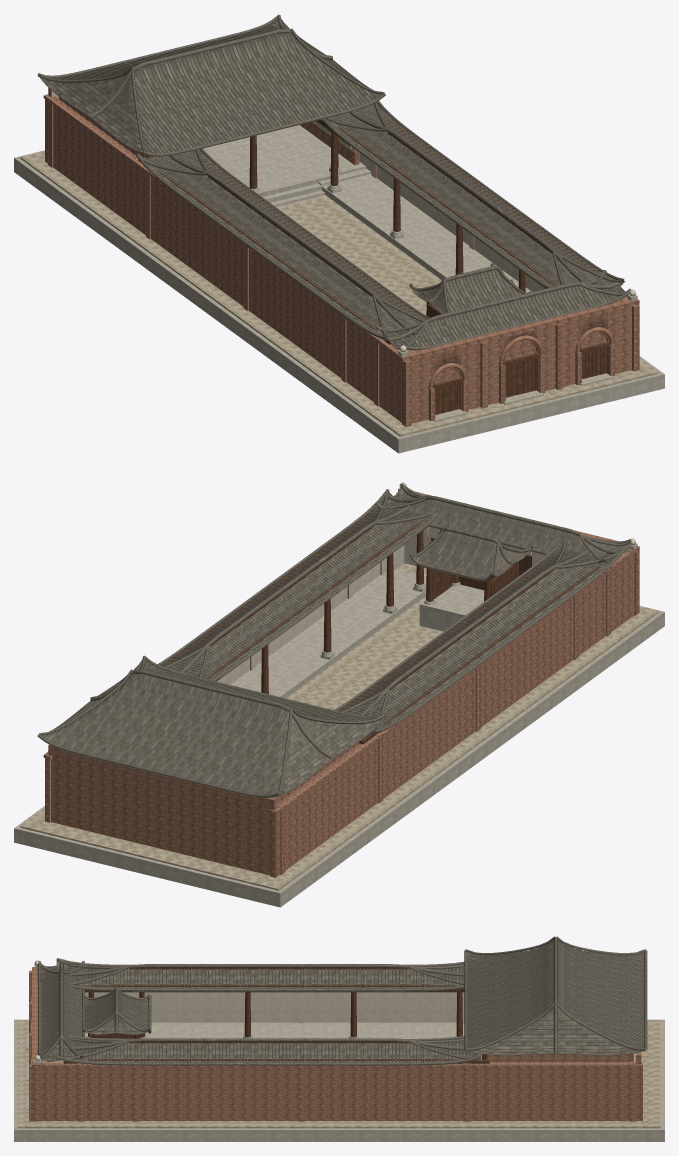
Rendered from corridor-b.glb.
3 views of the same model, one above another, from view 1: azimuth 30°, elevation 25°; view 2: azimuth 150°, elevation 25°; view 3: azimuth 270°, elevation 25° (orthographic). The views are drawn at different scales.
Parts seen in each view (by area): view 1: 03_MainHall, 02_Enclosure, 01_Base, 07_Entrance, 05_EastGallery, 04_WestGallery, 06_Stage; view 2: 02_Enclosure, 01_Base, 03_MainHall, 05_EastGallery, 04_WestGallery, 07_Entrance, 06_Stage; view 3: 02_Enclosure, 03_MainHall, 04_WestGallery, 01_Base, 05_EastGallery, 07_Entrance, 06_Stage.
Boxes of the visible parts, left/top/right/bottom form: 03_MainHall: left=37, top=14, right=385, bottom=206; 02_Enclosure: left=43, top=88, right=627, bottom=420; 01_Base: left=14, top=150, right=664, bottom=453; 07_Entrance: left=375, top=270, right=639, bottom=426; 05_EastGallery: left=317, top=101, right=625, bottom=295; 04_WestGallery: left=136, top=148, right=445, bottom=344; 06_Stage: left=409, top=263, right=530, bottom=317; 02_Enclosure: left=43, top=545, right=630, bottom=877; 01_Base: left=14, top=563, right=664, bottom=907; 03_MainHall: left=37, top=655, right=385, bottom=803; 05_EastGallery: left=157, top=489, right=439, bottom=698; 04_WestGallery: left=334, top=540, right=626, bottom=744; 07_Entrance: left=375, top=482, right=639, bottom=617; 06_Stage: left=409, top=524, right=532, bottom=631; 02_Enclosure: left=42, top=992, right=642, bottom=1121; 03_MainHall: left=464, top=936, right=647, bottom=1062; 04_WestGallery: left=56, top=958, right=464, bottom=1038; 01_Base: left=14, top=1019, right=664, bottom=1141; 05_EastGallery: left=56, top=1032, right=489, bottom=1065; 07_Entrance: left=26, top=960, right=84, bottom=1121; 06_Stage: left=82, top=987, right=151, bottom=1038.
Bounding box in the file's own units: 11.8 × 5.97 × 29.5.
13 materials, 10 textured.
